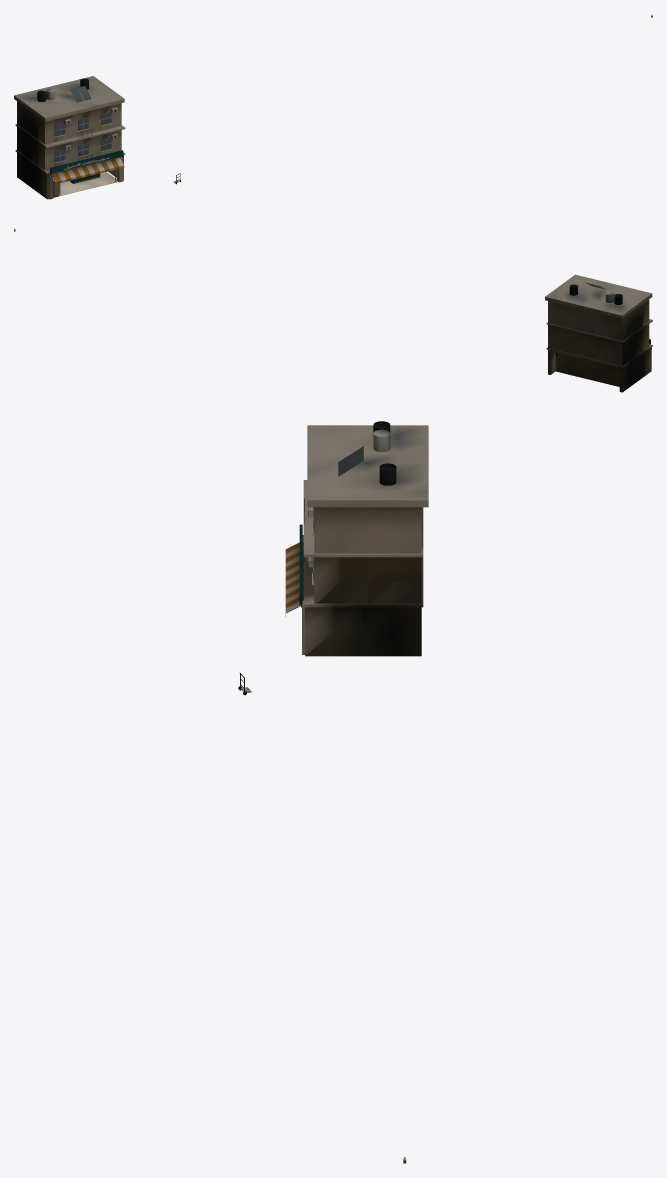
Rendered from far.glb.
3 views of the same model, one above another, from view 1: azimuth 30°, elevation 25°; view 2: azimuth 150°, elevation 25°; view 3: azimuth 270°, elevation 25° (orthographic). The views are drawn at different scales.
Parts seen in each view (by area): view 1: Far_Static_m; view 2: Far_Static_m; view 3: Far_Static_m.
Part boxes in pixels (<box>): Far_Static_m: <box>14,76,125,199</box>; Far_Static_m: <box>545,274,652,392</box>; Far_Static_m: <box>285,421,428,656</box>.
Bounding box in the file's own units: 92.35 × 12.5 × 12.4.
Materials: 5 (3 with a texture image).
